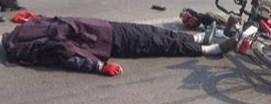Fall-Detected: (0, 8, 248, 79)
